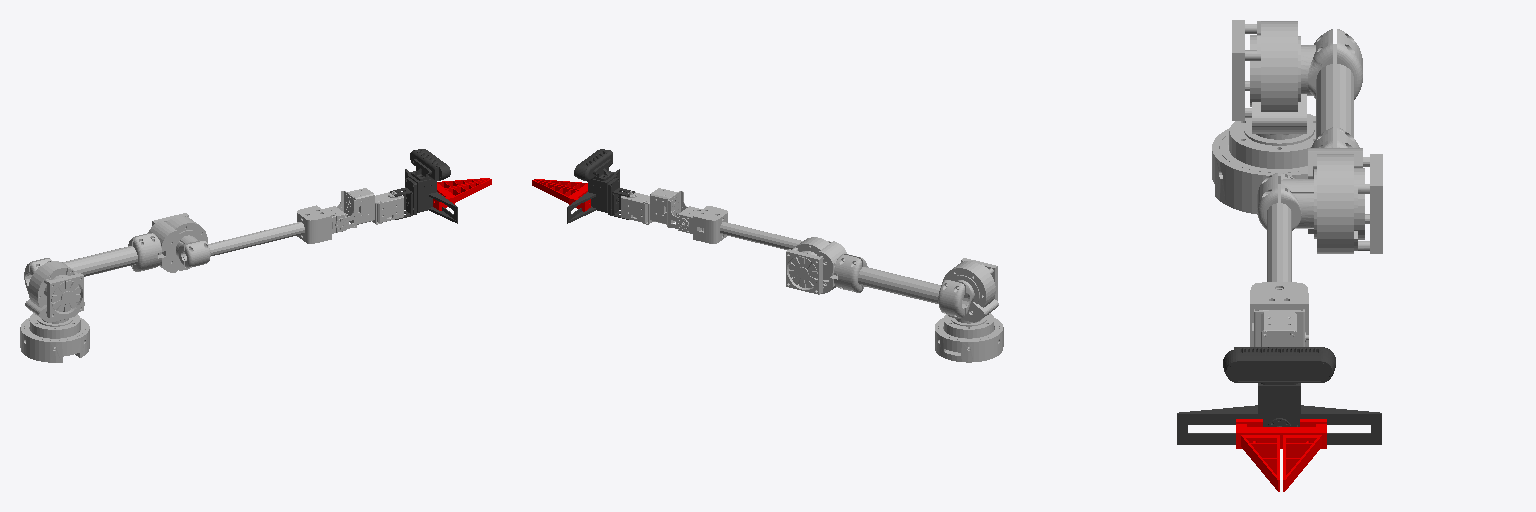
The robot description file, URDF, robot "st_arm":
<?xml version="1.0" encoding="utf-8"?>
<!-- This URDF was automatically created by SolidWorks to URDF Exporter! Originally created by [author] ([email redacted]) 
     Commit Version: 1.6.0-4-g7f85cfe  Build Version: 1.6.7995.38578
     For more information, please see http://wiki.ros.org/sw_urdf_exporter -->
<robot name="st_arm">
  <!--
  <joint name='world_joint' type='fixed'>
    <child>base_link</child>
    <parent>world</parent>
    <axis>
      <xyz>0 0 0</xyz>
      <limit>
        <lower>-1e+16</lower>
        <upper>1e+16</upper>
      </limit>
      <dynamics>
        <spring_reference>0</spring_reference>
        <spring_stiffness>0</spring_stiffness>
      </dynamics>
      <use_parent_model_frame>1</use_parent_model_frame>
    </axis>      
  </joint>
  -->
  <link
    name="base_link">
    <inertial>
      <origin
        xyz="0.00079573 -3.6402E-05 0.035389"
        rpy="0 0 0" />
      <mass
        value="0.068254" />
      <inertia
        ixx="3.8257E-05"
        ixy="-1.4789E-08"
        ixz="-5.913E-07"
        iyy="3.6476E-05"
        iyz="-3.6277E-09"
        izz="5.5945E-05" />
    </inertial>
    <visual>
      <origin
        xyz="0 0 0"
        rpy="0 0 0" />
      <geometry>
        <mesh
          filename="package://st_arm_description/meshes/stl/base_link.STL" />
      </geometry>
      <material
        name="">
        <color
          rgba="0.75294 0.75294 0.75294 1" />
      </material>
    </visual>
    <collision>
      <origin
        xyz="0 0 0"
        rpy="0 0 0" />
      <geometry>
        <mesh
          filename="package://st_arm_description/meshes/stl/base_link.STL" />
      </geometry>
    </collision>
  </link>

  <link name="shoulder_yaw_link">
    <inertial>
      <origin
        xyz="-0.0003825 -0.0077812 0.091573"
        rpy="0 0 0" />
      <mass
        value="0.11951" />
      <inertia
        ixx="4.8912E-05"
        ixy="5.139E-07"
        ixz="7.7875E-07"
        iyy="8.0458E-05"
        iyz="3.5883E-08"
        izz="6.5405E-05" />
    </inertial>
    <visual>
      <origin
        xyz="0 0 0"
        rpy="0 0 0" />
      <geometry>
        <mesh
          filename="package://st_arm_description/meshes/stl/shoulder_yaw_link.STL" />
      </geometry>
      <material
        name="">
        <color
          rgba="0.75294 0.75294 0.75294 1" />
      </material>
    </visual>
    <collision>
      <origin
        xyz="0 0 0"
        rpy="0 0 0" />
      <geometry>
        <mesh
          filename="package://st_arm_description/meshes/stl/shoulder_yaw_link.STL" />
      </geometry>
    </collision>
  </link>

  <joint name="shoulder_yaw_joint"
    type="revolute">
    <origin
      xyz="0 0 0"
      rpy="0 0 0" />
    <parent
      link="base_link" />
    <child
      link="shoulder_yaw_link" />
    <axis
      xyz="0 0 1" />
    <limit
      lower="-3.14"
      upper="3.14"
      effort="1"
      velocity="1" />
    <dynamics
      damping="0.1"
      friction="0.1" />
  </joint>

  <link name="shoulder_pitch_link">
    <inertial>
      <origin
        xyz="0.15644 0.048066 9.7103E-06"
        rpy="0 0 0" />
      <mass
        value="0.24697" />
      <inertia
        ixx="9.437E-05"
        ixy="3.5353E-07"
        ixz="-1.4925E-08"
        iyy="0.00039967"
        iyz="-3.7482E-09"
        izz="0.0003625" />
    </inertial>
    <visual>
      <origin
        xyz="0 0 0"
        rpy="0 0 0" />
      <geometry>
        <mesh
          filename="package://st_arm_description/meshes/stl/shoulder_pitch_link.STL" />
      </geometry>
      <material
        name="">
        <color
          rgba="0.75294 0.75294 0.75294 1" />
      </material>
    </visual>
    <collision>
      <origin
        xyz="0 0 0"
        rpy="0 0 0" />
      <geometry>
        <mesh
          filename="package://st_arm_description/meshes/stl/shoulder_pitch_link.STL" />
      </geometry>
    </collision>
  </link>

  <joint name="shoulder_pitch_joint"
    type="revolute">
    <origin
      xyz="0 0 0.1024"
      rpy="0 0 0" />
    <parent
      link="shoulder_yaw_link" />
    <child
      link="shoulder_pitch_link" />
    <axis
      xyz="0 1 0" />
    <limit
      lower="-3.14"
      upper="0.1"
      effort="1"
      velocity="1" />
    <dynamics
      damping="0.1"
      friction="0.1" />
  </joint>

  <link name="elbow_pitch_link">
    <inertial>
      <origin
        xyz="0.14489 0.0013966 2.8993E-05"
        rpy="0 0 0" />
      <mass
        value="0.15458" />
      <inertia
        ixx="2.7811E-05"
        ixy="-7.6006E-08"
        ixz="-2.7358E-10"
        iyy="0.00024853"
        iyz="-1.2741E-10"
        izz="0.00024924" />
    </inertial>
    <visual>
      <origin
        xyz="0 0 0"
        rpy="0 0 0" />
      <geometry>
        <mesh
          filename="package://st_arm_description/meshes/stl/elbow_pitch_link.STL" />
      </geometry>
      <material
        name="">
        <color
          rgba="0.75294 0.75294 0.75294 1" />
      </material>
    </visual>
    <collision>
      <origin
        xyz="0 0 0"
        rpy="0 0 0" />
      <geometry>
        <mesh
          filename="package://st_arm_description/meshes/stl/elbow_pitch_link.STL" />
      </geometry>
    </collision>
  </link>

  <joint name="elbow_pitch_joint"
    type="revolute">
    <origin
      xyz="0.25 0 0"
      rpy="0 0 0" />
    <parent
      link="shoulder_pitch_link" />
    <child
      link="elbow_pitch_link" />
    <axis
      xyz="0 1 0" />
    <limit
      lower="-0.1"
      upper="2.8"
      effort="1"
      velocity="1" />
    <dynamics
      damping="0.1"
      friction="0.1" />
  </joint>

  <link name="wrist_pitch_link">
    <inertial>
      <origin
        xyz="0.045384 7.2996E-12 0.011625"
        rpy="0 0 0" />
      <mass
        value="0.04488" />
      <inertia
        ixx="1.056E-05"
        ixy="9.3256E-17"
        ixz="-1.6017E-09"
        iyy="1.2042E-05"
        iyz="5.2438E-15"
        izz="7.0619E-06" />
    </inertial>
    <visual>
      <origin
        xyz="0 0 0"
        rpy="0 0 0" />
      <geometry>
        <mesh
          filename="package://st_arm_description/meshes/stl/wrist_pitch_link.STL" />
      </geometry>
      <material
        name="">
        <color
          rgba="0.75294 0.75294 0.75294 1" />
      </material>
    </visual>
    <collision>
      <origin
        xyz="0 0 0"
        rpy="0 0 0" />
      <geometry>
        <mesh
          filename="package://st_arm_description/meshes/stl/wrist_pitch_link.STL" />
      </geometry>
    </collision>
  </link>

  <joint name="wrist_pitch_joint"
    type="revolute">
    <origin
      xyz="0.25 0 0"
      rpy="0 0 0" />
    <parent
      link="elbow_pitch_link" />
    <child
      link="wrist_pitch_link" />
    <axis
      xyz="0 1 0" />
    <limit
      lower="-2.8"
      upper="3.5"
      effort="1"
      velocity="1" />
    <dynamics
      damping="0.1"
      friction="0.1" />
  </joint>

  <link name="wrist_roll_link">
    <inertial>
      <origin
        xyz="0.092875 7.3003E-12 0.00038405"
        rpy="0 0 0" />
      <mass
        value="0.04488" />
      <inertia
        ixx="7.0619E-06"
        ixy="-5.2437E-15"
        ixz="1.6017E-09"
        iyy="1.2042E-05"
        iyz="9.3284E-17"
        izz="1.056E-05" />
    </inertial>
    <visual>
      <origin
        xyz="0 0 0"
        rpy="0 0 0" />
      <geometry>
        <mesh
          filename="package://st_arm_description/meshes/stl/wrist_roll_link.STL" />
      </geometry>
      <material
        name="">
        <color
          rgba="0.75294 0.75294 0.75294 1" />
      </material>
    </visual>
    <collision>
      <origin
        xyz="0 0 0"
        rpy="0 0 0" />
      <geometry>
        <mesh
          filename="package://st_arm_description/meshes/stl/wrist_roll_link.STL" />
      </geometry>
    </collision>
  </link>

  <joint name="wrist_roll_joint"
    type="revolute">
    <origin
      xyz="0 0 0"
      rpy="0 0 0" />
    <parent
      link="wrist_pitch_link" />
    <child
      link="wrist_roll_link" />
    <axis
      xyz="1 0 0" />
    <limit
      lower="-3.14"
      upper="3.14"
      effort="1"
      velocity="1" />
    <dynamics
      damping="0.1"
      friction="0.1" />
  </joint>

  <link name="wrist_yaw_link">
    <inertial>
      <origin
        xyz="0.0565425500454511 0.000770126897689802 0.0312235457372081"
        rpy="0 0 0" />
      <mass
        value="0.0830727105278852" />
      <inertia
        ixx="3.41436749186346E-05"
        ixy="4.57204881845239E-08"
        ixz="-1.45878672061086E-08"
        iyy="1.4153865576068E-05"
        iyz="-7.66182962455597E-09"
        izz="2.93287001383685E-05" />
    </inertial>
    <visual>
      <origin
        xyz="0 0 0"
        rpy="0 0 0" />
      <geometry>
        <mesh
          filename="package://st_arm_description/meshes/stl/wrist_yaw_link.STL" />
      </geometry>
      <material
        name="">
        <color
          rgba="0.298039215686275 0.298039215686275 0.298039215686275 1" />
      </material>
    </visual>
    <collision>
      <origin
        xyz="0 0 0"
        rpy="0 0 0" />
      <geometry>
        <mesh
          filename="package://st_arm_description/meshes/stl/wrist_yaw_link.STL" />
      </geometry>
    </collision>
  </link>
  
  <joint name="wrist_yaw_joint"
    type="revolute">
    <origin
      xyz="0.1045 0 0"
      rpy="0 0 0" />
    <parent
      link="wrist_roll_link" />
    <child
      link="wrist_yaw_link" />
    <axis
      xyz="0 0 1" />
    <limit
      lower="-2"
      upper="2"
      effort="1"
      velocity="1" />
    <dynamics
      damping="0.1"
      friction="0.1" />
  </joint>
  
  <link
    name="gripper_right_link">
    <inertial>
      <origin
        xyz="0.0111908032118424 -0.0172076692337368 1.45716771982052E-16"
        rpy="0 0 0" />
      <mass
        value="0.0151655067348167" />
      <inertia
        ixx="1.52745382731903E-06"
        ixy="-1.20105930977712E-06"
        ixz="1.01095358531056E-20"
        iyy="7.4313592205101E-06"
        iyz="9.0184930204119E-21"
        izz="8.50838699629421E-06" />
    </inertial>
    <visual>
      <origin
        xyz="0 0 0"
        rpy="0 0 0" />
      <geometry>
        <mesh
          filename="package://st_arm_description/meshes/stl/gripper_right_link.STL" />
      </geometry>
      <material
        name="">
        <color
          rgba="1 0 0 1" />
      </material>
    </visual>
    <collision>
      <origin
        xyz="0 0 0"
        rpy="0 0 0" />
      <geometry>
        <mesh
          filename="package://st_arm_description/meshes/stl/gripper_right_link.STL" />
      </geometry>
    </collision>
  </link>
  
  <joint
    name="gripper_right_joint"
    type="prismatic">
    <origin
      xyz="0.083595 0.0016804 0"
      rpy="0 0 0" />
    <parent
      link="wrist_yaw_link" />
    <child
      link="gripper_right_link" />
    <axis
      xyz="0 1 0" />
    <limit
      lower="-0.05"
      upper="0"
      effort="1"
      velocity="1" />
    <dynamics
      damping="0.1"
      friction="0.1" />
  </joint>
  
  <link
    name="gripper_left_link">
    <inertial>
      <origin
        xyz="0.0111908032118425 0.0172076692337367 -6.37684349769074E-15"
        rpy="0 0 0" />
      <mass
        value="0.0151655067348166" />
      <inertia
        ixx="1.52745382731904E-06"
        ixy="1.20105930977713E-06"
        ixz="3.87211343681729E-18"
        iyy="7.43135922051009E-06"
        iyz="-6.58551754093197E-19"
        izz="8.5083869962942E-06" />
    </inertial>
    <visual>
      <origin
        xyz="0 0 0"
        rpy="0 0 0" />
      <geometry>
        <mesh
          filename="package://st_arm_description/meshes/stl/gripper_left_link.STL" />
      </geometry>
      <material
        name="">
        <color
          rgba="1 0 0 1" />
      </material>
    </visual>
    <collision>
      <origin
        xyz="0 0 0"
        rpy="0 0 0" />
      <geometry>
        <mesh
          filename="package://st_arm_description/meshes/stl/gripper_left_link.STL" />
      </geometry>
    </collision>
  </link>
  
  <joint
    name="gripper_left_joint"
    type="prismatic">
    <origin
      xyz="0.083595 0.0016804 0"
      rpy="0 0 0" />
    <parent
      link="wrist_yaw_link" />
    <child
      link="gripper_left_link" />
    <axis
      xyz="0 -1 0" />
    <limit
      lower="-0.05"
      upper="0"
      effort="1"
      velocity="1" />
    <dynamics
      damping="0.1"
      friction="0.1" />
  </joint>
</robot>

--- What the picture shows (computed from the rendered views, not written in the file) ---
The picture shows the robot from 3 angles, left to right: view 1: azimuth 30°, elevation 25°; view 2: azimuth 150°, elevation 25°; view 3: azimuth 270°, elevation 25°; orthographic projection.
Robot: st_arm — 9 links, 8 joints (6 revolute, 2 prismatic); root link base_link; default pose: every joint at zero.
Visible links, largest first — view 1: shoulder_pitch_link, elbow_pitch_link, shoulder_yaw_link, base_link, wrist_yaw_link, wrist_pitch_link, wrist_roll_link, gripper_right_link; view 2: shoulder_pitch_link, base_link, wrist_yaw_link, elbow_pitch_link, shoulder_yaw_link, wrist_pitch_link, wrist_roll_link, gripper_left_link; view 3: shoulder_pitch_link, wrist_yaw_link, shoulder_yaw_link, elbow_pitch_link, base_link, gripper_right_link, gripper_left_link, wrist_pitch_link.
Boxes of the visible links, x1,y1,x2,y2 form: shoulder_pitch_link: (24, 213, 207, 290); elbow_pitch_link: (176, 205, 346, 267); shoulder_yaw_link: (25, 261, 84, 323); base_link: (20, 313, 89, 362); wrist_yaw_link: (390, 149, 457, 223); wrist_pitch_link: (337, 188, 374, 229); wrist_roll_link: (372, 191, 403, 224); gripper_right_link: (433, 179, 491, 210); shoulder_pitch_link: (786, 237, 974, 317); base_link: (935, 313, 1003, 362); wrist_yaw_link: (567, 149, 634, 223); elbow_pitch_link: (677, 206, 830, 249); shoulder_yaw_link: (942, 258, 998, 323); wrist_pitch_link: (650, 188, 687, 230); wrist_roll_link: (621, 191, 652, 224); gripper_left_link: (532, 180, 590, 211); shoulder_pitch_link: (1301, 29, 1382, 253); wrist_yaw_link: (1177, 347, 1381, 444); shoulder_yaw_link: (1232, 20, 1306, 139); elbow_pitch_link: (1250, 173, 1313, 346); base_link: (1212, 114, 1315, 214); gripper_right_link: (1236, 419, 1281, 491); gripper_left_link: (1282, 419, 1326, 491); wrist_pitch_link: (1254, 309, 1304, 346).
Bounding box of the posed robot: 0.8311 × 0.1629 × 0.1691 m (x, y, z).
Meshes: 9 distinct files referenced, 9 mesh visuals loaded (9 binary STL).
